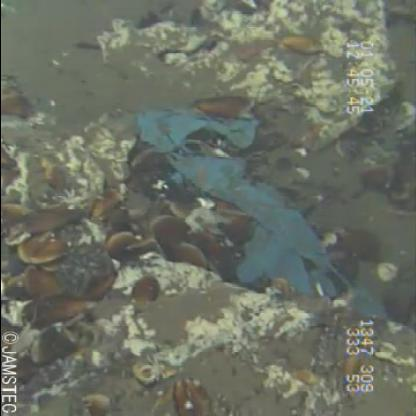Rác: (124, 98, 393, 327)
